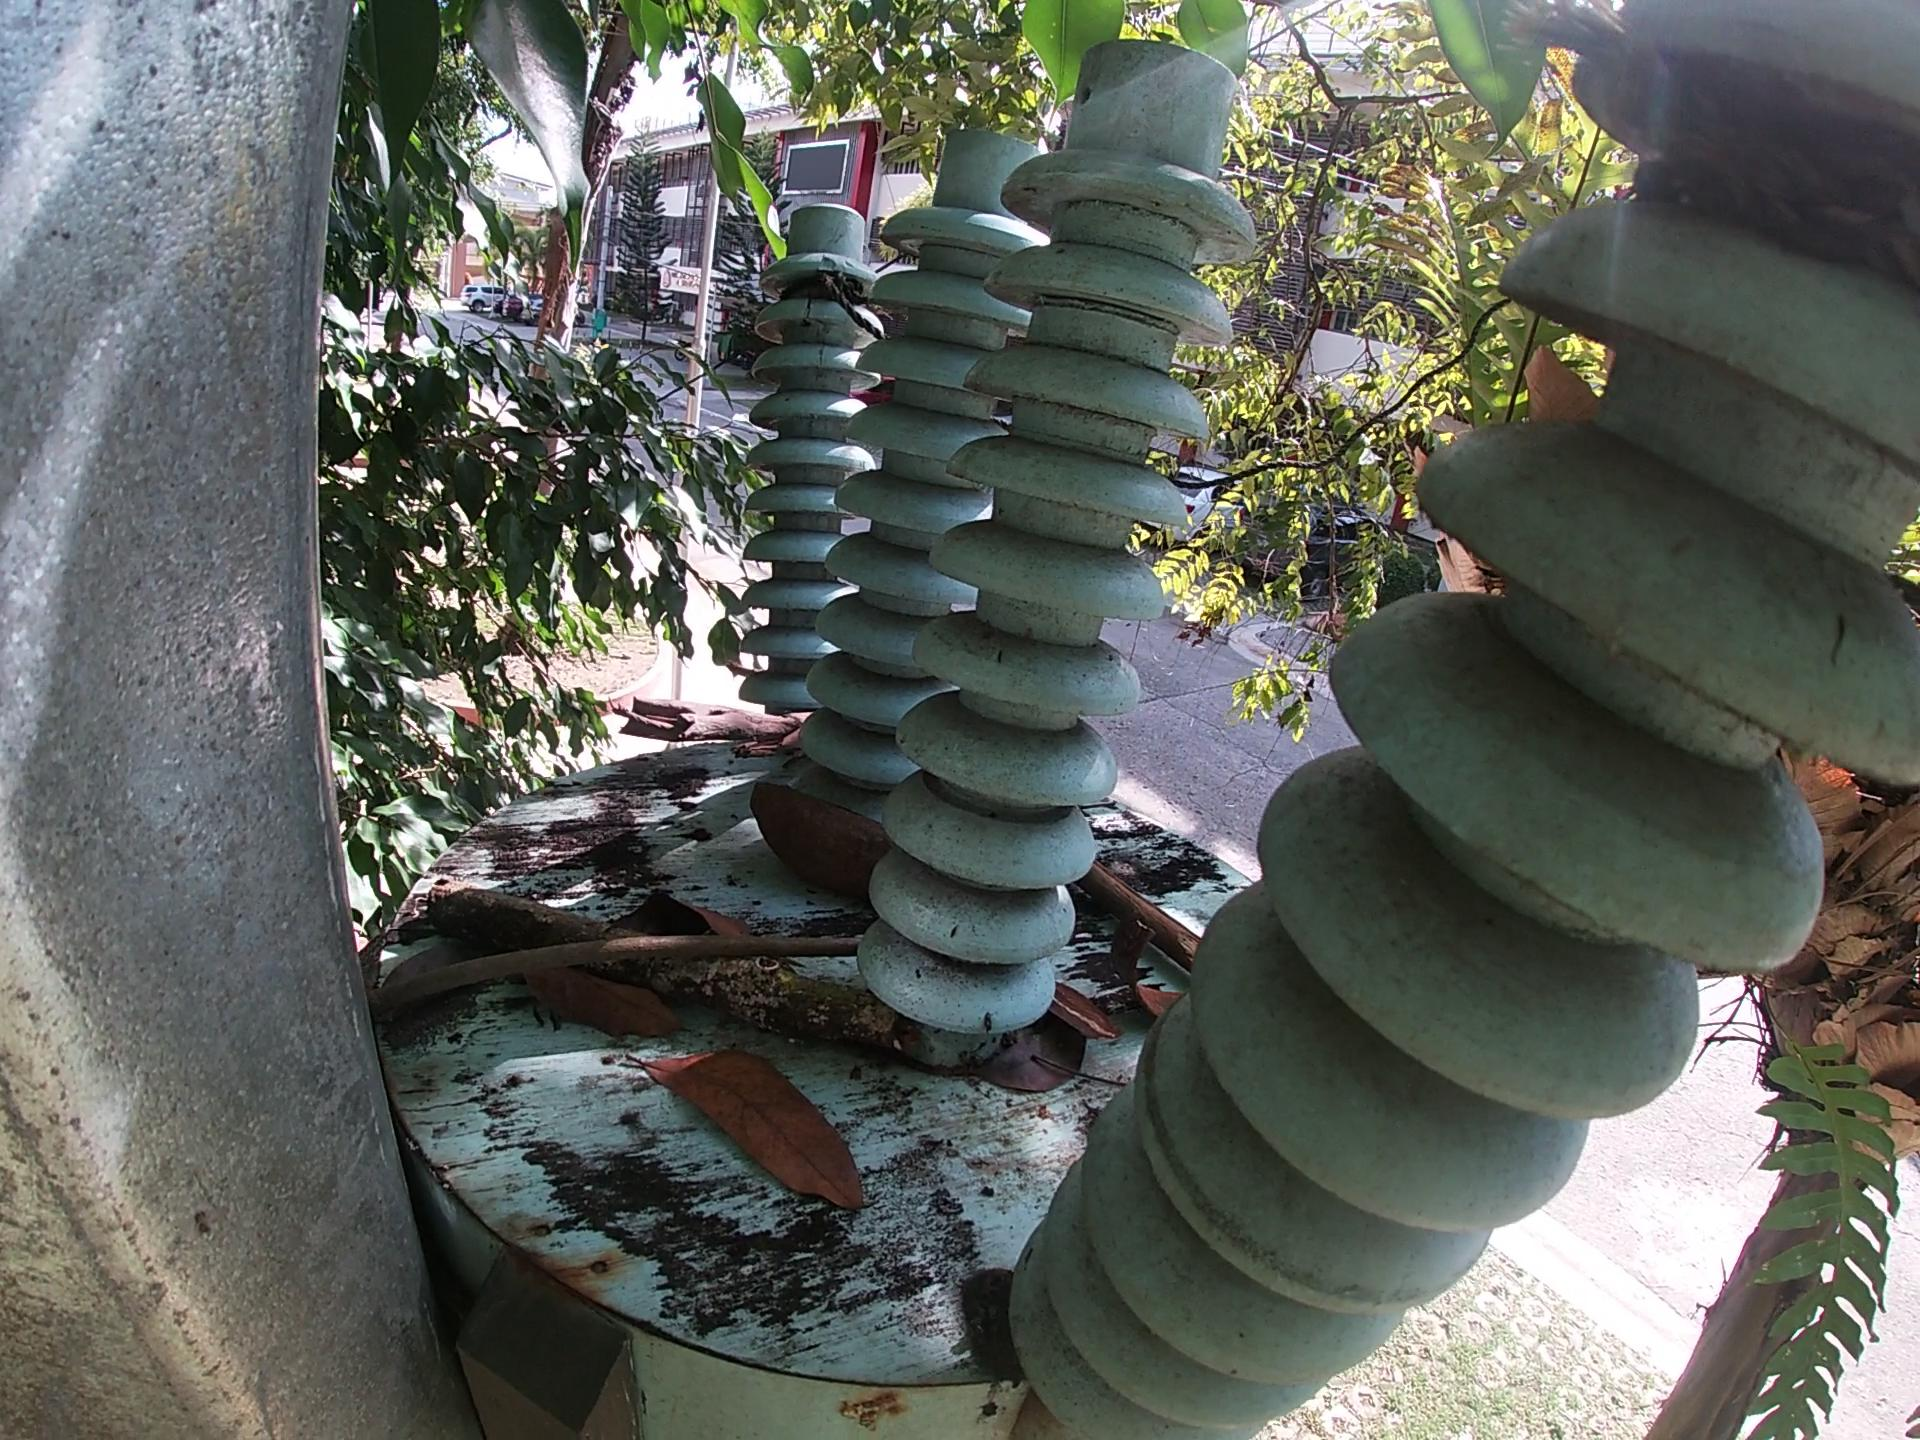leaf: (615, 1047, 884, 1212), (522, 961, 692, 1041), (946, 1016, 1093, 1100), (600, 889, 770, 945)
mahogany fruit: (745, 776, 890, 903), (1108, 903, 1188, 1019), (1048, 982, 1123, 1050)
tree branch: (420, 870, 906, 1054), (364, 930, 874, 1021), (1070, 861, 1208, 979), (609, 690, 815, 765)
